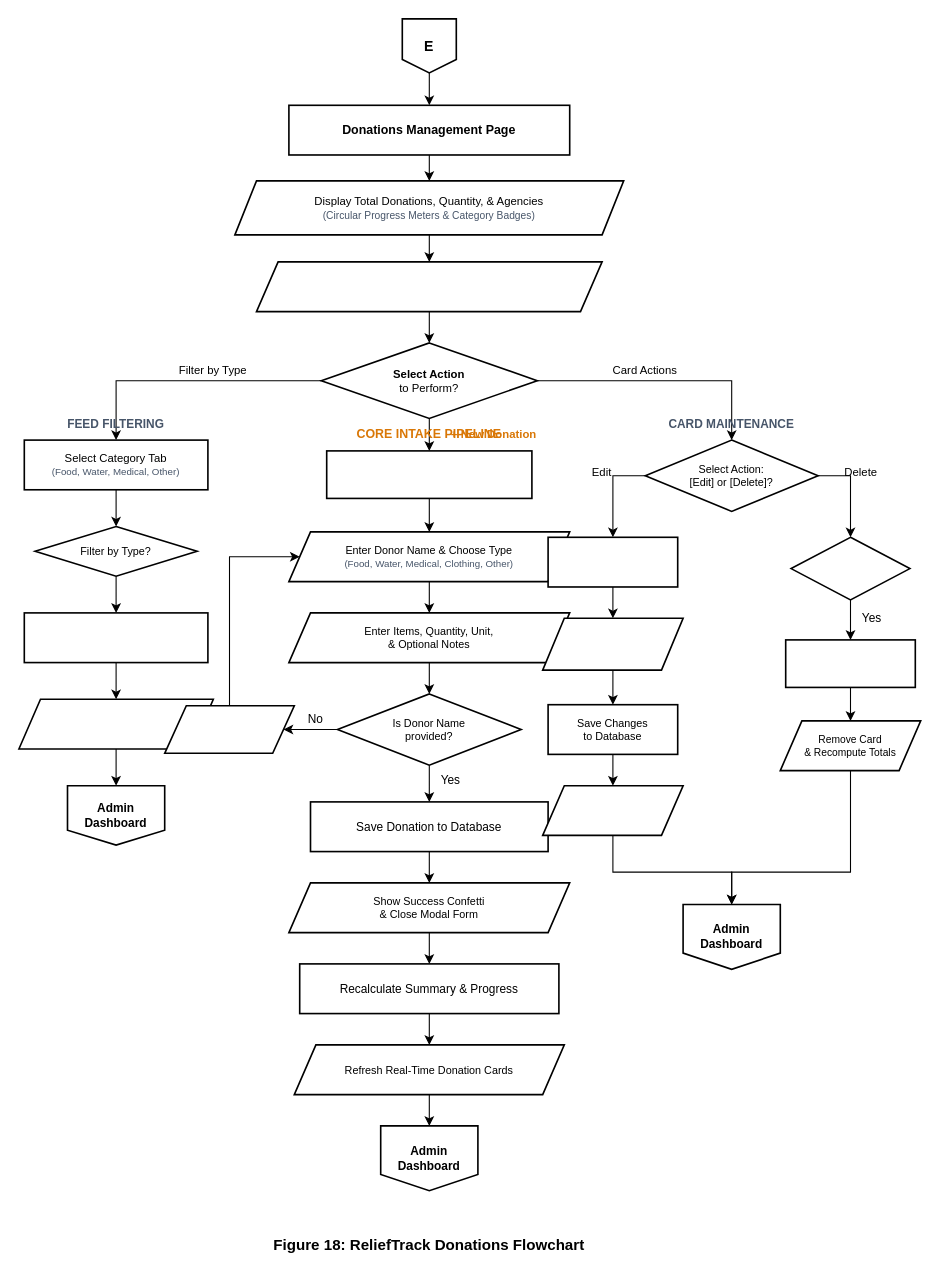
This 941x1280 diagram has some shape labels left out. Here are the shapes that lost their labels. From the top down, the centre of each, then its label:
[428,286]: Display Donations Feed & Category Tabs
[428,474]: Open "New donation" Form
[612,561]: Open Edit Form with Details
[850,568]: Confirm Delete?
[115,637]: Filter Feed by Category
[612,643]: Update Quantity, Items or Notes
[850,663]: Delete Record from Database
[116,723]: Display Filtered Cards
[229,729]: Show Required Alert
[612,810]: Update Screen Card
